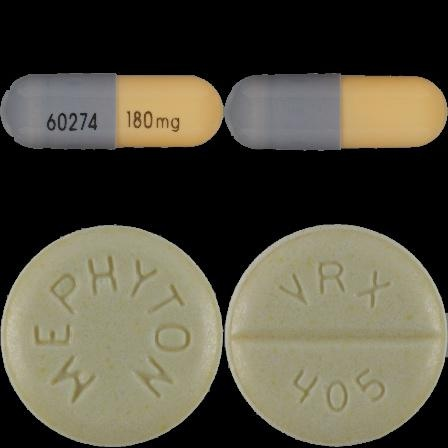68151-0136: (0, 0, 224, 224)
